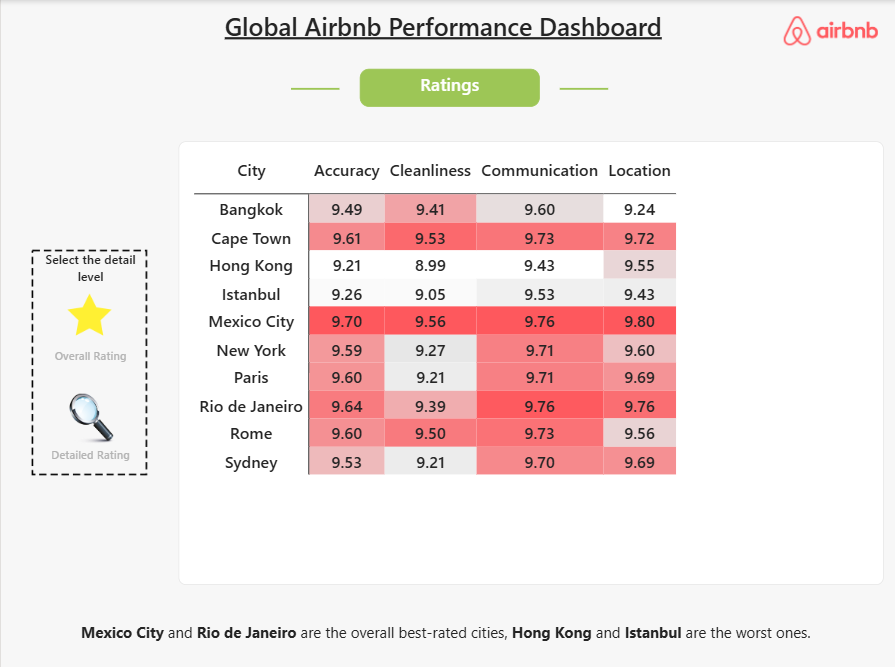

What the dashboard file says about the page in this screenshot:
{"tool":"powerbi","page":{"name":"Ratings","canvas":[960,720],"ordinal":1},"visuals":[{"type":"textbox","box":[239.9,9.7,480.2,44.6],"z":0},{"type":"image","box":[70,301.6,50.7,71.2],"z":0,"group":"g1"},{"type":"image","box":[68.8,422.3,55.5,54.3],"z":0,"group":"g2"},{"type":"image","box":[832.4,16.9,112.2,31.4],"z":1000},{"type":"textbox","box":[1.2,371.6,189.4,32.6],"z":1000,"group":"g1"},{"type":"textbox","box":[1.2,476.6,189.4,32.6],"z":1000,"group":"g2"},{"type":"textbox","box":[383.6,73.6,193,41],"z":2000},{"type":"textbox","box":[85.7,665.3,789.8,38.8],"z":3000},{"type":"shape","box":[310.1,77.2,51.9,35],"z":4000},{"type":"shape","box":[598.4,77.2,51.9,35],"z":5000},{"type":"image","box":[0,187,189.4,401.7],"z":6000},{"type":"textbox","box":[37.4,267.8,117,43.4],"z":6500},{"type":"pivotTable","fields":{"Rows":["Listings.city"],"Values":["Listings.Accuracy","Listings.Cleanliness","Listings.Communication","Listings.Location"]},"box":[189.4,150.8,755.2,475.3],"z":7000},{"type":"group","id":"g1","title":"Group 1","box":[1.2,301.6,189.4,102.5],"z":10000},{"type":"group","id":"g2","title":"Group 2","box":[1.2,422.3,189.4,86.9],"z":11000}]}

Visuals, with their boxes in screenshot pixels (x1, y1, x2, y2), scaled from the page's 960x720 canvas onto the 895x667 screenshot:
textbox: {"x1": 224, "y1": 9, "x2": 671, "y2": 50}
image: {"x1": 65, "y1": 279, "x2": 113, "y2": 345}
image: {"x1": 64, "y1": 391, "x2": 116, "y2": 442}
image: {"x1": 776, "y1": 16, "x2": 881, "y2": 45}
textbox: {"x1": 1, "y1": 344, "x2": 178, "y2": 374}
textbox: {"x1": 1, "y1": 442, "x2": 178, "y2": 472}
textbox: {"x1": 358, "y1": 68, "x2": 538, "y2": 106}
textbox: {"x1": 80, "y1": 616, "x2": 816, "y2": 652}
shape: {"x1": 289, "y1": 72, "x2": 337, "y2": 104}
shape: {"x1": 558, "y1": 72, "x2": 606, "y2": 104}
image: {"x1": 0, "y1": 173, "x2": 177, "y2": 545}
textbox: {"x1": 35, "y1": 248, "x2": 144, "y2": 288}
pivotTable - Listings.city x Listings.Accuracy: {"x1": 177, "y1": 140, "x2": 881, "y2": 580}
"Group 1" group: {"x1": 1, "y1": 279, "x2": 178, "y2": 374}
"Group 2" group: {"x1": 1, "y1": 391, "x2": 178, "y2": 472}
